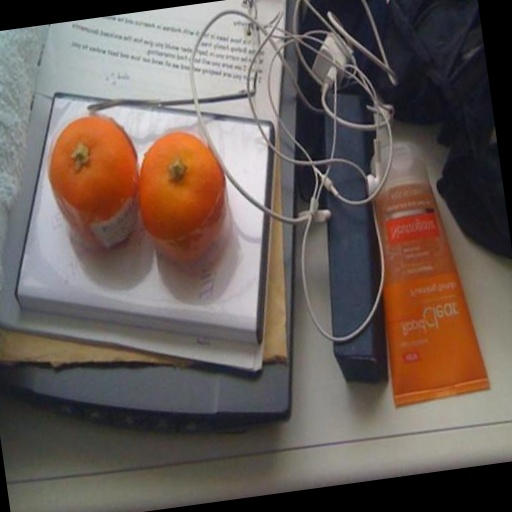fruit: (48, 116, 137, 247), (138, 132, 225, 263)
